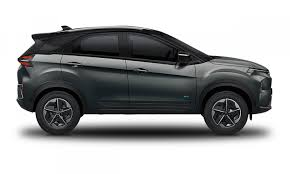Tata Nexon: (14, 24, 276, 137)
